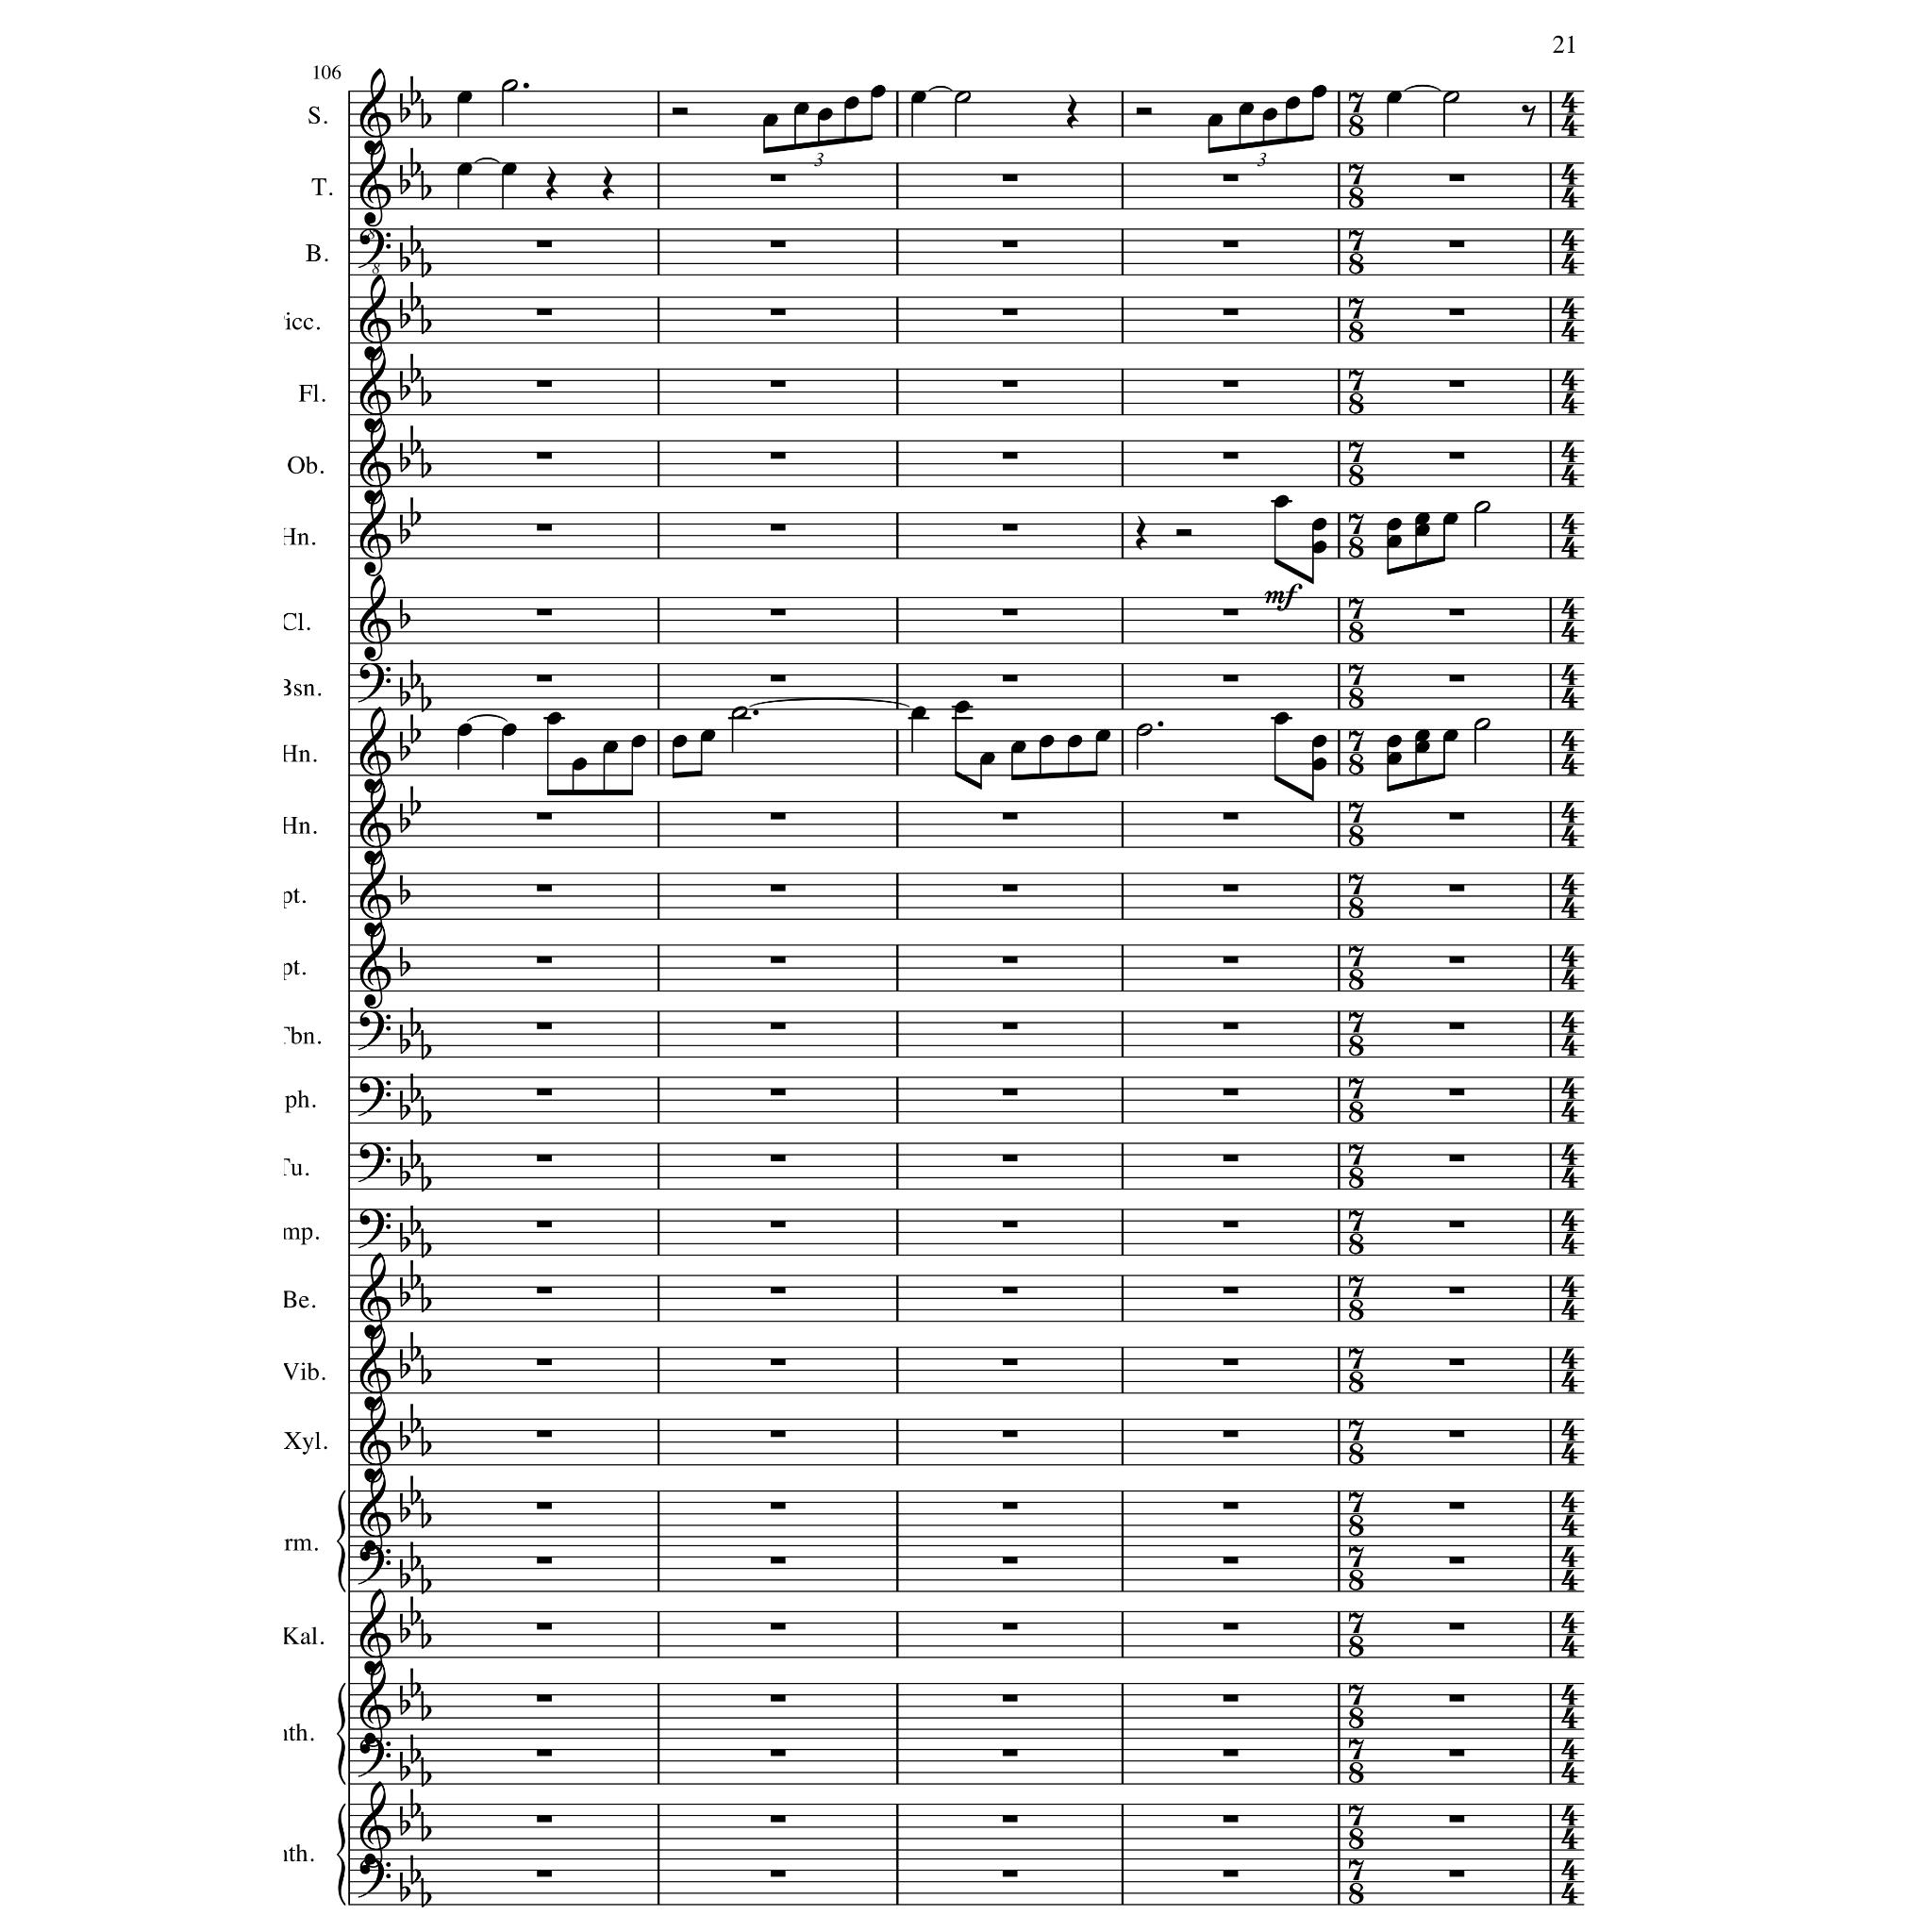brace: (336, 1683, 345, 1785), (336, 1803, 345, 1905), (336, 1490, 345, 1592)
fClef: (357, 1858, 391, 1898), (357, 1737, 391, 1778), (357, 1141, 391, 1182), (357, 1208, 391, 1249), (357, 1076, 391, 1116), (357, 1010, 391, 1051), (357, 1545, 391, 1585), (357, 662, 391, 702), (357, 228, 391, 269)
gClef: (359, 1780, 391, 1868), (359, 1660, 391, 1748), (359, 1467, 391, 1555), (359, 1323, 391, 1412), (359, 573, 391, 662), (359, 488, 391, 577), (359, 418, 391, 506), (359, 345, 391, 433), (359, 272, 391, 361), (359, 849, 391, 938), (359, 706, 391, 794), (359, 67, 391, 156), (359, 1253, 391, 1339), (359, 1589, 391, 1675), (359, 1396, 391, 1483), (359, 922, 391, 1008), (359, 778, 391, 865), (359, 140, 391, 226)
noteheadBlack: (545, 711, 563, 725), (630, 734, 648, 748), (1274, 711, 1290, 725), (1274, 494, 1290, 508), (1238, 101, 1254, 115), (1387, 734, 1403, 748), (1387, 517, 1403, 531), (1387, 534, 1403, 548), (1311, 734, 1327, 748), (1311, 757, 1327, 771), (1311, 517, 1327, 531), (1311, 540, 1327, 554), (1311, 83, 1327, 97), (1387, 88, 1403, 103), (1415, 522, 1431, 536), (501, 722, 517, 736), (456, 722, 472, 736), (456, 88, 472, 103), (671, 734, 686, 748), (571, 757, 587, 771), (1067, 734, 1083, 748), (1039, 734, 1054, 748), (911, 706, 927, 720), (911, 88, 927, 103), (870, 83, 886, 97), (794, 101, 810, 115), (1284, 96, 1302, 108), (602, 740, 619, 752), (1207, 113, 1223, 126), (1261, 108, 1277, 120), (1387, 752, 1403, 764), (1415, 729, 1431, 741), (1415, 740, 1431, 752), (1415, 511, 1431, 524), (1444, 729, 1460, 741), (1444, 511, 1460, 524), (501, 163, 517, 175), (456, 163, 472, 175), (980, 752, 996, 764), (954, 701, 970, 713), (1010, 740, 1026, 752), (1095, 729, 1111, 741), (763, 113, 778, 126), (699, 729, 715, 741), (817, 108, 833, 120), (844, 96, 860, 108)
noteheadHalf: (501, 78, 518, 92), (1136, 722, 1154, 736), (731, 706, 748, 720), (1444, 90, 1460, 104), (1474, 717, 1490, 731), (1474, 499, 1490, 513), (955, 90, 971, 104)
rest8th: (1522, 104, 1537, 126)
restHalf: (1177, 529, 1192, 536), (671, 108, 686, 113), (1136, 108, 1152, 113)
restQuarter: (1134, 515, 1148, 550), (545, 165, 557, 202), (602, 165, 614, 202), (1067, 94, 1079, 129)
restWhole: (1223, 451, 1238, 460), (1223, 674, 1238, 683), (1001, 1286, 1017, 1295), (1223, 1286, 1238, 1295), (770, 1286, 786, 1295), (770, 451, 786, 460), (770, 674, 786, 683), (1001, 451, 1017, 460), (1001, 674, 1017, 683), (536, 1286, 552, 1295), (536, 674, 552, 683), (536, 451, 552, 460), (1449, 674, 1465, 683), (1449, 1286, 1465, 1295), (1449, 451, 1465, 460), (1001, 1870, 1017, 1877), (1223, 173, 1238, 180), (1223, 308, 1238, 315), (1223, 609, 1238, 616), (1001, 1221, 1017, 1228), (1001, 1359, 1017, 1366), (1001, 1502, 1017, 1509), (1223, 812, 1238, 819), (1001, 1557, 1017, 1564), (1001, 1622, 1017, 1629), (1001, 1695, 1017, 1702), (1001, 1750, 1017, 1757), (1001, 1815, 1017, 1822), (1223, 1870, 1238, 1877), (1223, 1557, 1238, 1564), (1223, 1622, 1238, 1629), (1223, 1695, 1238, 1702), (1223, 1750, 1238, 1757), (1223, 1815, 1238, 1822), (1223, 885, 1238, 892), (1223, 955, 1238, 962), (1223, 1023, 1238, 1030), (1223, 1088, 1238, 1095), (1223, 1154, 1238, 1161), (1001, 1154, 1017, 1161), (1223, 1221, 1238, 1228), (1223, 1359, 1238, 1366), (1223, 1502, 1238, 1509), (770, 1154, 786, 1161), (770, 812, 786, 819), (770, 885, 786, 892), (770, 955, 786, 962), (770, 1023, 786, 1030), (770, 1088, 786, 1095), (770, 1221, 786, 1228), (770, 1359, 786, 1366), (770, 1502, 786, 1509), (770, 173, 786, 180), (770, 308, 786, 315), (770, 524, 786, 531), (770, 609, 786, 616), (1001, 524, 1017, 531), (1001, 609, 1017, 616), (1001, 308, 1017, 315), (1001, 812, 1017, 819), (1001, 885, 1017, 892), (1001, 955, 1017, 962), (1001, 1023, 1017, 1030), (1001, 1088, 1017, 1095), (770, 1870, 786, 1877), (770, 1557, 786, 1564), (770, 1622, 786, 1629), (770, 1695, 786, 1702), (770, 1750, 786, 1757), (770, 1815, 786, 1822), (1001, 173, 1017, 180), (536, 955, 552, 962), (536, 1622, 552, 1629), (536, 1557, 552, 1564), (536, 1502, 552, 1509), (536, 1359, 552, 1366), (536, 1221, 552, 1228), (536, 1154, 552, 1161), (536, 1088, 552, 1095), (536, 1023, 552, 1030), (536, 885, 552, 892), (536, 812, 552, 819), (536, 609, 552, 616), (536, 524, 552, 531), (536, 308, 552, 315), (536, 1695, 552, 1702), (1449, 1359, 1465, 1366), (1449, 1221, 1465, 1228), (1449, 1154, 1465, 1161), (1449, 1088, 1465, 1095), (1449, 1023, 1465, 1030), (1449, 955, 1465, 962), (1449, 885, 1465, 892), (1449, 812, 1465, 819), (1449, 1502, 1465, 1509), (1449, 609, 1465, 616), (1449, 308, 1465, 315), (1449, 173, 1465, 180), (536, 1870, 552, 1877), (536, 1815, 552, 1822), (536, 1750, 552, 1757), (1449, 1870, 1465, 1877), (1449, 1815, 1465, 1822), (1449, 1750, 1465, 1757), (1449, 1695, 1465, 1702), (1449, 1622, 1465, 1629), (1449, 1557, 1465, 1564), (1223, 241, 1238, 246), (1223, 380, 1238, 386), (1001, 1431, 1017, 1437), (1223, 1431, 1238, 1437), (770, 1431, 786, 1437), (770, 380, 786, 386), (770, 241, 786, 246), (1001, 380, 1017, 386), (1001, 241, 1017, 246), (536, 1431, 552, 1437), (536, 380, 552, 386), (536, 241, 552, 246), (1449, 1431, 1465, 1437), (1449, 380, 1465, 386), (1449, 241, 1465, 246)
